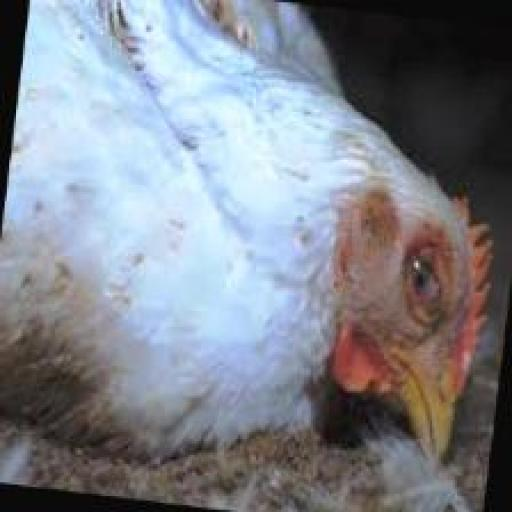disease: (375, 215, 467, 353)
